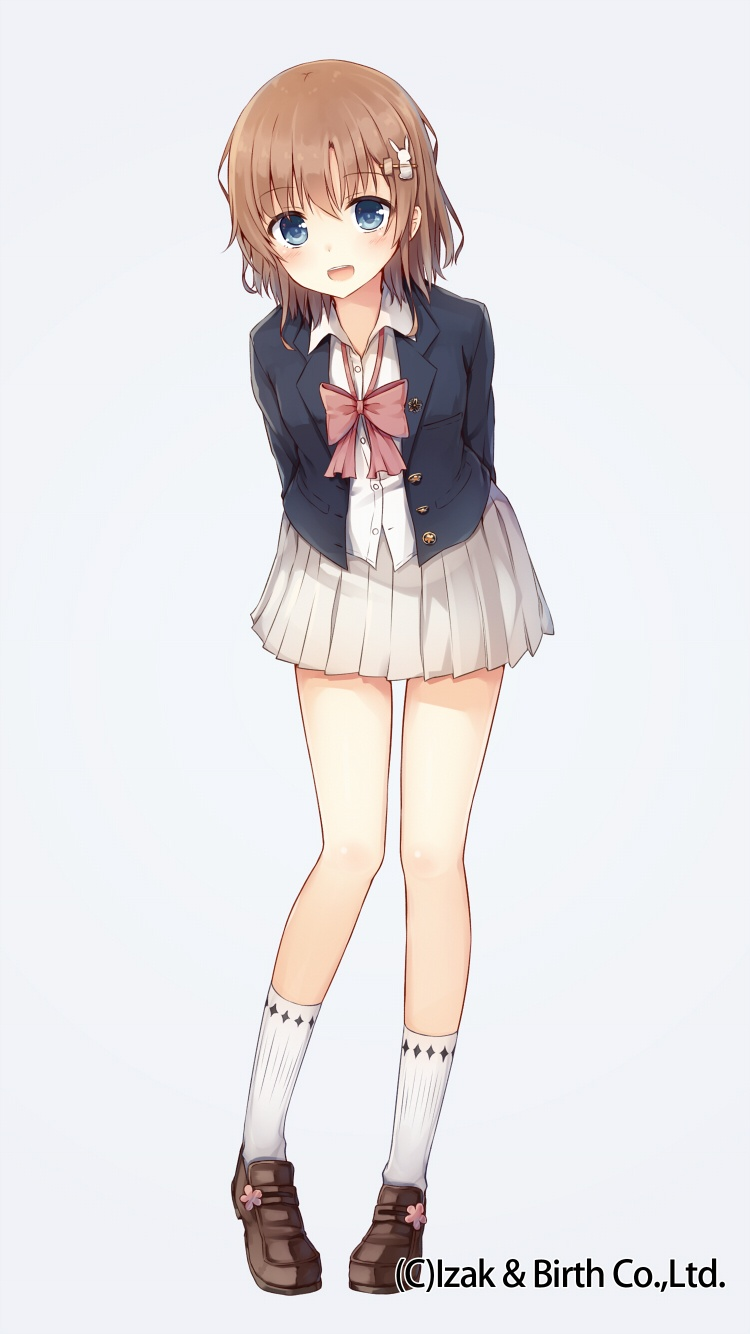纸片人正脸: (215, 56, 448, 315)
